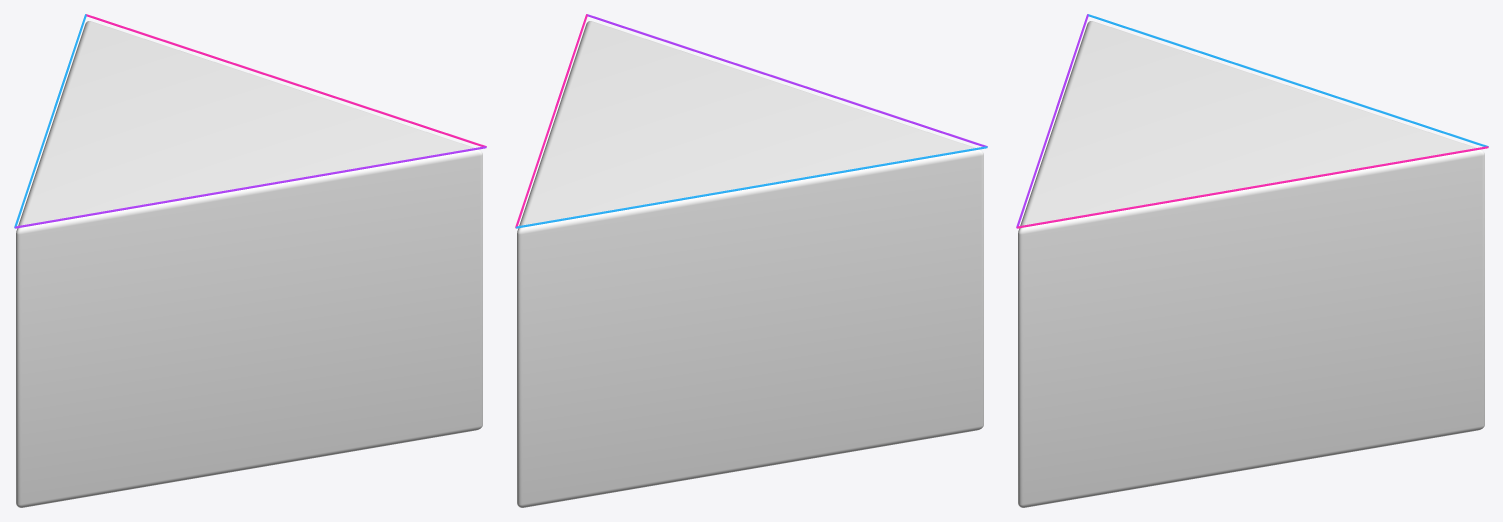
Rendered from SABRANG_OPTICAL_PRISM.glb.
3 renders of one model, left to right at view 1: azimuth 30°, elevation 25°; view 2: azimuth 150°, elevation 25°; view 3: azimuth 270°, elevation 25°, orthographic.
Parts seen in each view (by area): view 1: SABRANG_PRISM_MAIN, SPECTRAL_VIOLET_EDGE, SPECTRAL_MAGENTA_EDGE, SPECTRAL_CYAN_EDGE; view 2: SABRANG_PRISM_MAIN, SPECTRAL_CYAN_EDGE, SPECTRAL_VIOLET_EDGE, SPECTRAL_MAGENTA_EDGE; view 3: SABRANG_PRISM_MAIN, SPECTRAL_MAGENTA_EDGE, SPECTRAL_CYAN_EDGE, SPECTRAL_VIOLET_EDGE.
Part boxes in pixels (x1,y1,x2,y2): SABRANG_PRISM_MAIN: (16, 21, 482, 507); SPECTRAL_VIOLET_EDGE: (15, 146, 486, 228); SPECTRAL_MAGENTA_EDGE: (86, 14, 486, 146); SPECTRAL_CYAN_EDGE: (14, 14, 86, 228); SABRANG_PRISM_MAIN: (517, 21, 983, 507); SPECTRAL_CYAN_EDGE: (516, 146, 987, 228); SPECTRAL_VIOLET_EDGE: (587, 14, 987, 146); SPECTRAL_MAGENTA_EDGE: (515, 14, 587, 228); SABRANG_PRISM_MAIN: (1018, 21, 1484, 507); SPECTRAL_MAGENTA_EDGE: (1017, 146, 1488, 228); SPECTRAL_CYAN_EDGE: (1088, 14, 1488, 146); SPECTRAL_VIOLET_EDGE: (1016, 14, 1088, 228).
Bounding box in the file's own units: 5.51 × 3.43 × 5.16.
